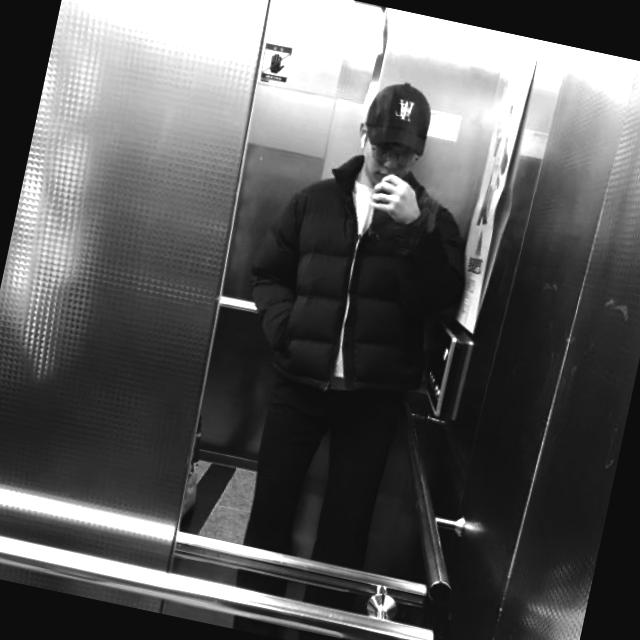denimpants: (220, 366, 410, 640)
padding: (229, 130, 488, 414)
